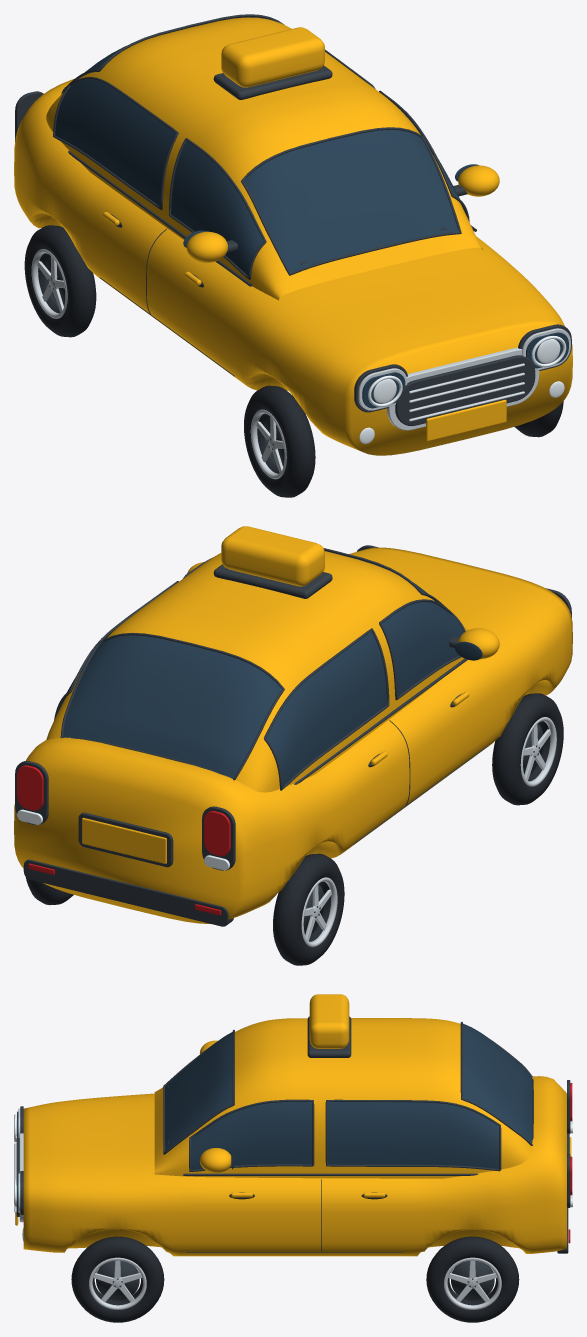
Rendered from TaxiConcept.fbx.
3 views of the same model, one above another, from view 1: azimuth 30°, elevation 25°; view 2: azimuth 150°, elevation 25°; view 3: azimuth 270°, elevation 25° (orthographic). The views are drawn at different scales.
Visible parts, largest first — view 1: Sculpted monocoque.008, Soft continuous roof and pillars.008, Curved windshield.008, Rear door glass.016, Front door glass.016, Recessed grille.008, Rounded tyre.032, Rounded tyre.034, Taxi roof sign.008, Front yellow plate.008, Curved windshield rubber seal.004, Grille chrome surround.008 (+10 smaller); view 2: Sculpted monocoque.008, Soft continuous roof and pillars.008, Curved rear hatch glass.008, Rear door glass.016, Rounded tyre.034, Front door glass.016, Rounded tyre.032, Taxi roof sign.008, Rear bumper lower.008, Rear yellow plate.008, Curved rear hatch glass rubber seal.004, Taxi sign rubber foot.008 (+12 smaller); view 3: Sculpted monocoque.008, Soft continuous roof and pillars.008, Rear door glass.017, Front door glass.017, Curved rear hatch glass.008, Curved windshield.008, Rounded tyre.035, Rounded tyre.033, Taxi roof sign.008, Rear door glass rubber seal.009, Front door glass rubber seal.009, Recessed brake disc.019 (+8 smaller).
Part boxes in pixels (<box>): Sculpted monocoque.008: <box>14,78,572,455</box>; Soft continuous roof and pillars.008: <box>46,17,483,300</box>; Curved windshield.008: <box>243,129,458,273</box>; Rear door glass.016: <box>55,79,176,206</box>; Front door glass.016: <box>171,141,263,275</box>; Recessed grille.008: <box>395,355,535,425</box>; Rounded tyre.032: <box>244,385,315,497</box>; Rounded tyre.034: <box>24,225,96,337</box>; Taxi roof sign.008: <box>221,27,324,87</box>; Front yellow plate.008: <box>426,399,506,441</box>; Curved windshield rubber seal.004: <box>241,127,461,275</box>; Grille chrome surround.008: <box>386,347,539,430</box>; Sculpted monocoque.008: <box>14,547,572,923</box>; Soft continuous roof and pillars.008: <box>46,551,467,792</box>; Curved rear hatch glass.008: <box>63,635,282,778</box>; Rear door glass.016: <box>266,631,387,786</box>; Rounded tyre.034: <box>273,853,344,965</box>; Front door glass.016: <box>382,602,463,696</box>; Rounded tyre.032: <box>492,693,563,805</box>; Taxi roof sign.008: <box>221,526,324,586</box>; Rear bumper lower.008: <box>23,859,233,926</box>; Rear yellow plate.008: <box>82,817,166,863</box>; Curved rear hatch glass rubber seal.004: <box>60,632,284,780</box>; Taxi sign rubber foot.008: <box>213,564,332,598</box>; Sculpted monocoque.008: <box>23,1076,566,1256</box>; Soft continuous roof and pillars.008: <box>154,1018,530,1178</box>; Rear door glass.017: <box>327,1101,499,1168</box>; Front door glass.017: <box>191,1101,312,1170</box>; Curved rear hatch glass.008: <box>462,1023,531,1143</box>; Curved windshield.008: <box>165,1032,233,1151</box>; Rounded tyre.035: <box>426,1236,519,1322</box>; Rounded tyre.033: <box>71,1236,164,1322</box>; Taxi roof sign.008: <box>309,994,349,1048</box>; Rear door glass rubber seal.009: <box>325,1099,501,1171</box>; Front door glass rubber seal.009: <box>189,1099,314,1171</box>; Recessed brake disc.019: <box>96,1260,139,1300</box>.
Bounding box in the file's own units: 211 × 214 × 410.
